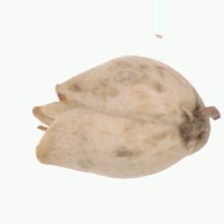L1: (32, 82, 69, 166), (184, 99, 219, 155)
L2: (33, 54, 220, 179)
